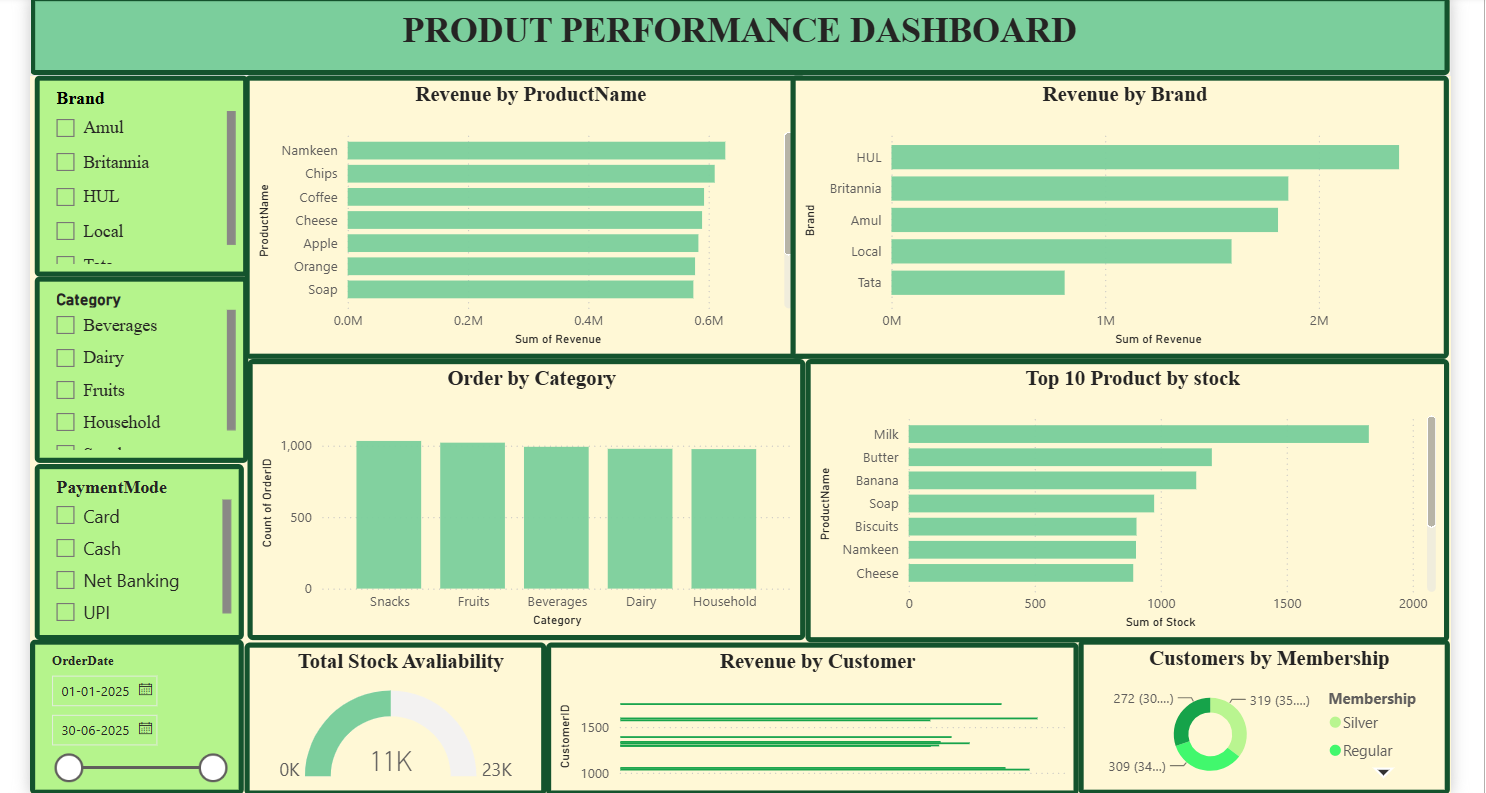

This screenshot's page, from the dashboard's own definition file:
{"tool":"powerbi","page":{"name":"PRODUCT & INVENTORY PERFORMANCE DASHBOARD","canvas":[1280,720],"ordinal":1},"visuals":[{"type":"textbox","box":[0,0,1279.5,71.2],"z":0},{"type":"clusteredBarChart","title":" Revenue by ProductName","fields":{"Category":["Orders.ProductName"],"Y":["Sum(Orders.Revenue)"]},"box":[192.8,71.8,506.5,255.1],"z":1000},{"type":"clusteredBarChart","title":" Revenue by Brand","fields":{"Category":["Products.Brand"],"Y":["Sum(Orders.Revenue)"]},"box":[686,71.8,593.4,255.1],"z":2000},{"type":"clusteredColumnChart","title":"Order by Category","fields":{"Category":["Orders.Category"],"Y":["CountNonNull(Orders.OrderID)"]},"box":[196.5,326.9,502.7,253.2],"z":3000},{"type":"gauge","title":"Total  Stock Avaliability","fields":{"Y":["Sum(Products.Stock)"]},"box":[192.8,582.1,272.1,138],"z":4000},{"type":"clusteredBarChart","title":"Top 10 Product by stock","fields":{"Category":["Products.ProductName"],"Y":["Sum(Products.Stock)"]},"box":[699.2,326.9,580.2,255.1],"z":5000},{"type":"slicer","fields":{"Values":["Products.Brand"]},"box":[3.8,71.8,192.8,181.4],"z":6000},{"type":"slicer","fields":{"Values":["Products.Category"]},"box":[3.8,253.2,192.8,168.2],"z":7000},{"type":"slicer","fields":{"Values":["Orders.PaymentMode"]},"box":[3.8,421.4,189,158.7],"z":8000},{"type":"slicer","fields":{"Values":["Orders.OrderDate"]},"box":[0,580.2,192.8,139.8],"z":9000},{"type":"clusteredBarChart","title":" Revenue by Customer","fields":{"Category":["Customers.CustomerID"],"Y":["Sum(Orders.Revenue)"]},"box":[464.9,582.1,480,138],"z":10000},{"type":"donutChart","title":"Customers by Membership","fields":{"Category":["Customers.Membership"],"Y":["CountNonNull(Customers.CustomerID)"]},"box":[944.9,580.2,334.5,139.8],"z":11000}]}

Visuals, with their boxes in screenshot pixels (x1, y1, x2, y2):
textbox: <bbox>31, 4, 1421, 81</bbox>
" Revenue by ProductName" clusteredBarChart: <bbox>240, 82, 791, 359</bbox>
" Revenue by Brand" clusteredBarChart: <bbox>776, 82, 1421, 359</bbox>
"Order by Category" clusteredColumnChart: <bbox>244, 359, 791, 634</bbox>
"Total  Stock Avaliability" gauge: <bbox>240, 636, 536, 786</bbox>
"Top 10 Product by stock" clusteredBarChart: <bbox>791, 359, 1421, 636</bbox>
slicer - Products.Brand: <bbox>35, 82, 245, 279</bbox>
slicer - Products.Category: <bbox>35, 279, 245, 462</bbox>
slicer - Orders.PaymentMode: <bbox>35, 462, 240, 634</bbox>
slicer - Orders.OrderDate: <bbox>31, 634, 240, 786</bbox>
" Revenue by Customer" clusteredBarChart: <bbox>536, 636, 1058, 786</bbox>
"Customers by Membership" donutChart: <bbox>1058, 634, 1421, 786</bbox>
